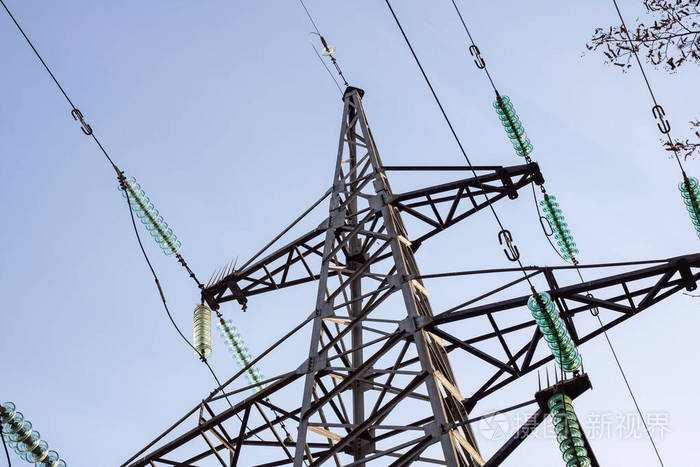insulator: (115, 176, 180, 255), (527, 289, 582, 373), (2, 401, 69, 465), (216, 320, 264, 387), (538, 195, 579, 259), (550, 397, 587, 467), (491, 95, 533, 155), (678, 177, 700, 235), (191, 304, 210, 355)
